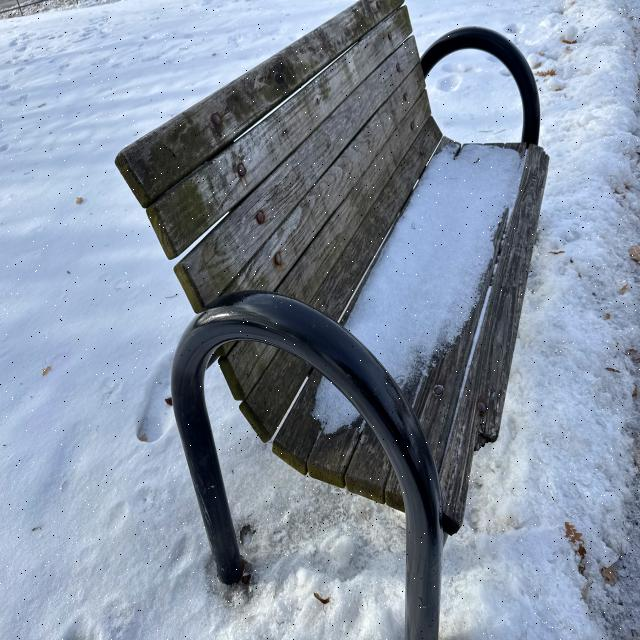Bench: (171, 16, 549, 604)
